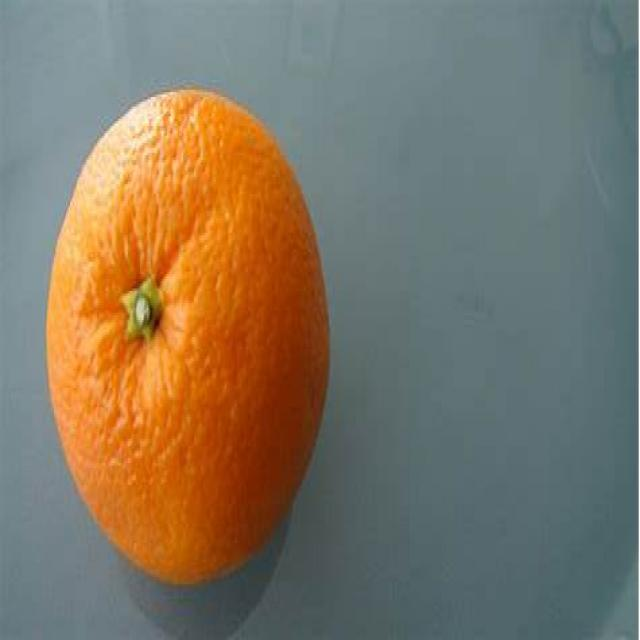Orange: (48, 88, 334, 587)
